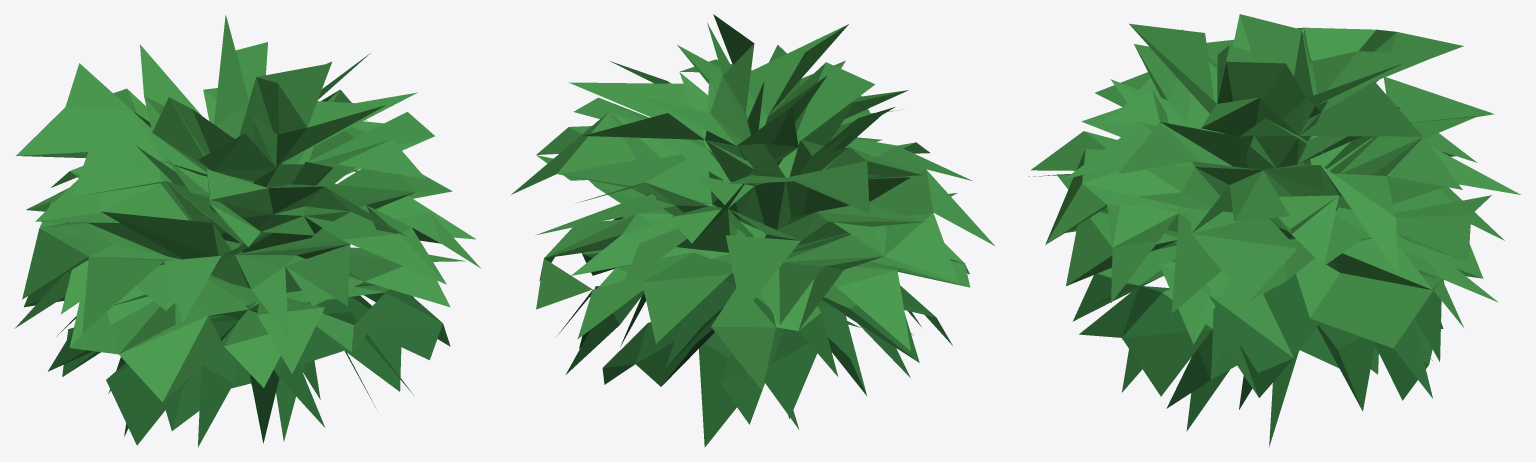
The model's file is bush-2.glb.
3 views of the same model, side by side, from view 1: azimuth 30°, elevation 25°; view 2: azimuth 150°, elevation 25°; view 3: azimuth 270°, elevation 25° (orthographic). The views are drawn at different scales.
Parts seen in each view (by area): view 1: output_unwrapped; view 2: output_unwrapped; view 3: output_unwrapped.
Part boxes in pixels (<box>): output_unwrapped: <box>14,14,481,446</box>; output_unwrapped: <box>511,14,994,447</box>; output_unwrapped: <box>1028,14,1520,447</box>.
Bounding box in the file's own units: 1.6 × 1.28 × 1.6.
